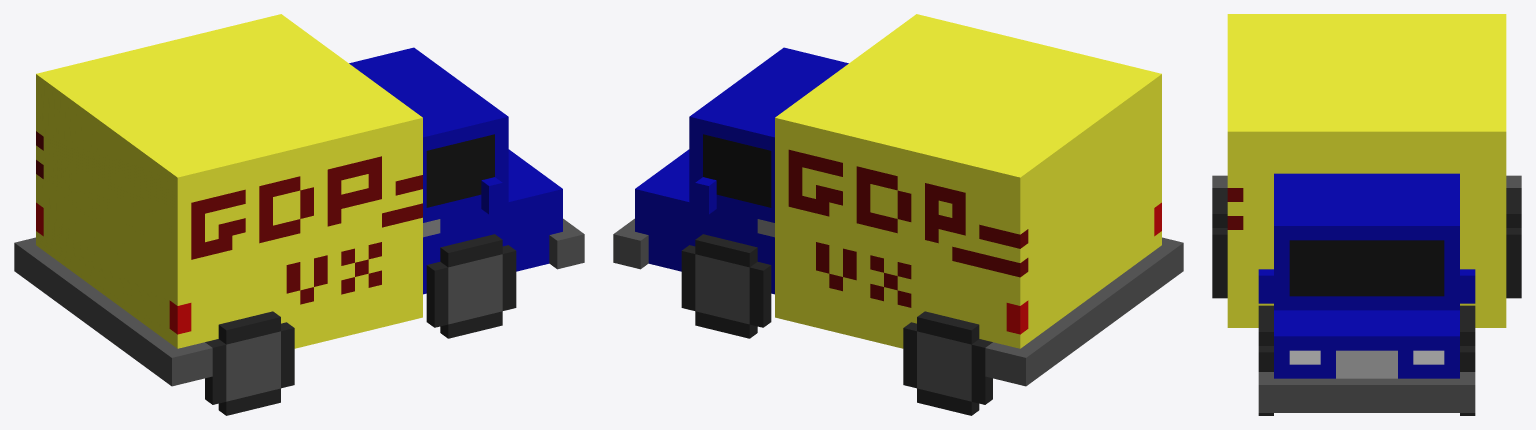
File: truck.fbx
3 renders of one model, left to right at view 1: azimuth 30°, elevation 25°; view 2: azimuth 150°, elevation 25°; view 3: azimuth 270°, elevation 25°, orthographic.
Parts seen in each view (by area): view 1: truck-1, truck-0; view 2: truck-1, truck-0; view 3: truck-1, truck-0.
Boxes of the visible parts, box(x1,y1,x2,y2) form: truck-1: box(14, 14, 584, 386); truck-0: box(205, 234, 516, 415); truck-1: box(613, 14, 1183, 386); truck-0: box(681, 234, 992, 415); truck-1: box(1212, 14, 1521, 412); truck-0: box(1212, 188, 1521, 415).
Size of the model in its own units: 320 by 170 by 200.
